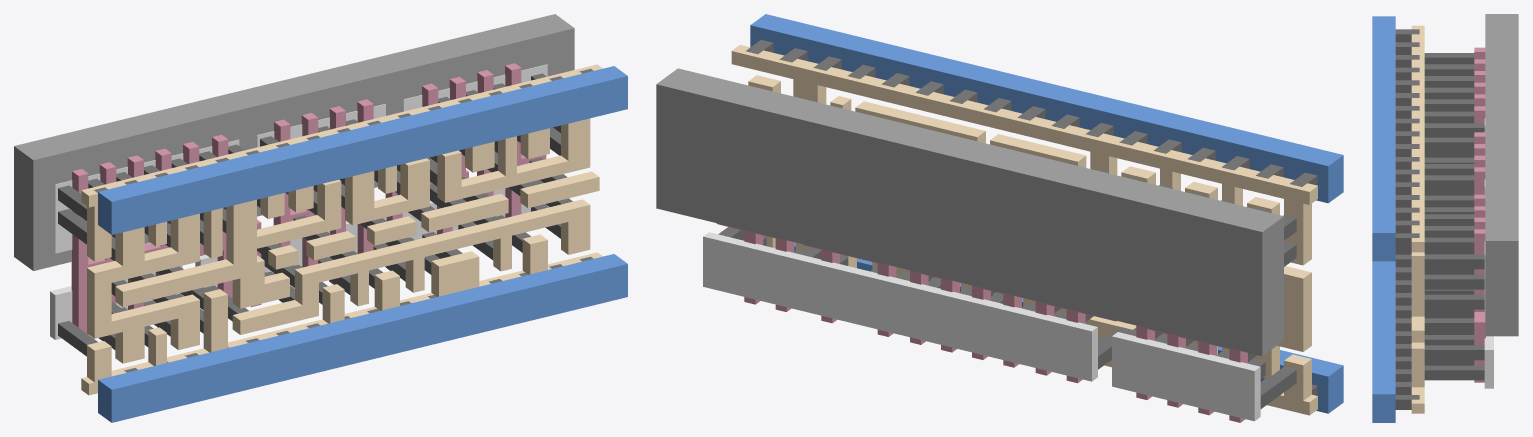
The model's file is sky130_fd_sc_hd__o41a_4.gds.gltf.
3 views of the same model, side by side, from view 1: azimuth 30°, elevation 25°; view 2: azimuth 150°, elevation 25°; view 3: azimuth 270°, elevation 25° (orthographic). The views are drawn at different scales.
Parts seen in each view (by area): view 1: sky130_fd_sc_hd__o41a_4_li1, sky130_fd_sc_hd__o41a_4_met1, sky130_fd_sc_hd__o41a_4_nwell, sky130_fd_sc_hd__o41a_4_licon, sky130_fd_sc_hd__o41a_4_poly, sky130_fd_sc_hd__o41a_4_diff, sky130_fd_sc_hd__o41a_4_mcon; view 2: sky130_fd_sc_hd__o41a_4_nwell, sky130_fd_sc_hd__o41a_4_diff, sky130_fd_sc_hd__o41a_4_li1, sky130_fd_sc_hd__o41a_4_met1, sky130_fd_sc_hd__o41a_4_poly, sky130_fd_sc_hd__o41a_4_mcon, sky130_fd_sc_hd__o41a_4_licon; view 3: sky130_fd_sc_hd__o41a_4_licon, sky130_fd_sc_hd__o41a_4_nwell, sky130_fd_sc_hd__o41a_4_met1, sky130_fd_sc_hd__o41a_4_mcon, sky130_fd_sc_hd__o41a_4_li1, sky130_fd_sc_hd__o41a_4_poly, sky130_fd_sc_hd__o41a_4_diff.
Part boxes in pixels (bbox=[...]): sky130_fd_sc_hd__o41a_4_li1: bbox=[81, 64, 602, 395]; sky130_fd_sc_hd__o41a_4_met1: bbox=[98, 66, 627, 422]; sky130_fd_sc_hd__o41a_4_nwell: bbox=[14, 14, 574, 270]; sky130_fd_sc_hd__o41a_4_licon: bbox=[58, 73, 572, 356]; sky130_fd_sc_hd__o41a_4_poly: bbox=[71, 63, 546, 334]; sky130_fd_sc_hd__o41a_4_diff: bbox=[50, 64, 547, 339]; sky130_fd_sc_hd__o41a_4_mcon: bbox=[94, 68, 593, 372]; sky130_fd_sc_hd__o41a_4_nwell: bbox=[656, 68, 1283, 356]; sky130_fd_sc_hd__o41a_4_diff: bbox=[703, 232, 1260, 421]; sky130_fd_sc_hd__o41a_4_li1: bbox=[731, 44, 1317, 415]; sky130_fd_sc_hd__o41a_4_met1: bbox=[750, 14, 1343, 413]; sky130_fd_sc_hd__o41a_4_poly: bbox=[716, 223, 1247, 422]; sky130_fd_sc_hd__o41a_4_mcon: bbox=[745, 40, 1317, 395]; sky130_fd_sc_hd__o41a_4_licon: bbox=[718, 160, 1296, 408]; sky130_fd_sc_hd__o41a_4_licon: bbox=[1424, 53, 1484, 380]; sky130_fd_sc_hd__o41a_4_nwell: bbox=[1485, 14, 1518, 336]; sky130_fd_sc_hd__o41a_4_met1: bbox=[1372, 16, 1395, 422]; sky130_fd_sc_hd__o41a_4_mcon: bbox=[1395, 29, 1419, 409]; sky130_fd_sc_hd__o41a_4_li1: bbox=[1411, 25, 1424, 413]; sky130_fd_sc_hd__o41a_4_poly: bbox=[1474, 47, 1485, 382]; sky130_fd_sc_hd__o41a_4_diff: bbox=[1484, 118, 1493, 388].
Bounding box in the file's own units: 8.2 × 3.2 × 2.24.
